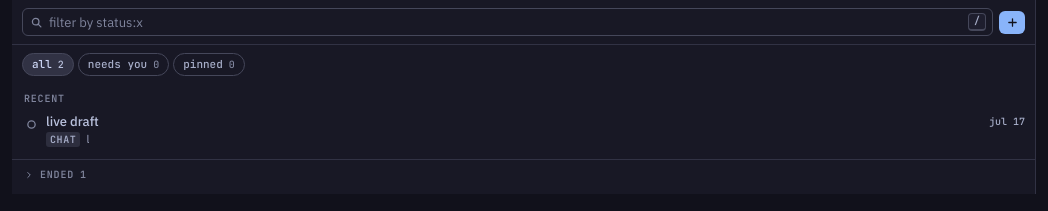
a status: filter surfaces finished sessions even though ended is collapsed by default
The width and height of the screenshot is (1048, 211).
Type "status:completed" into the search field named "Filter sessions".
click(508, 22); type("status:completed")  # box [22, 8, 993, 36]
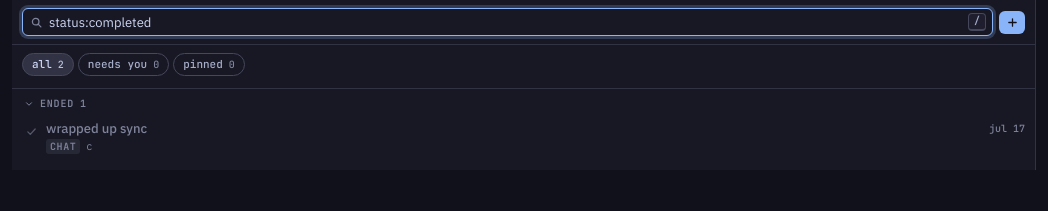
Now the text "wrapped up sync" is shown, box [46, 120, 147, 137]
